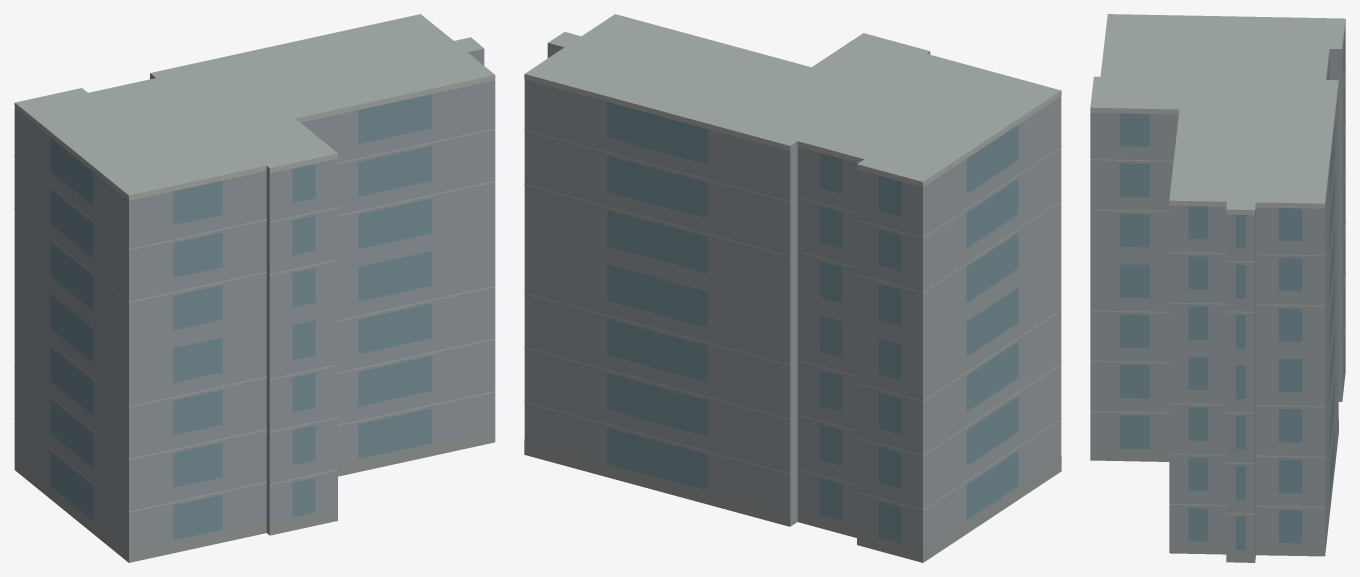
File: survey-upis-32760571.glb
The picture shows the model from 3 angles, left to right: view 1: azimuth 30°, elevation 25°; view 2: azimuth 150°, elevation 25°; view 3: azimuth 270°, elevation 25°; orthographic projection. The views are drawn at different scales.
Visible parts, largest first — view 1: survey-upis-32760571.tmp; view 2: survey-upis-32760571.tmp; view 3: survey-upis-32760571.tmp.
Boxes of the visible parts, x1,y1,x2,y2 form: survey-upis-32760571.tmp: [14, 14, 495, 562]; survey-upis-32760571.tmp: [524, 14, 1061, 562]; survey-upis-32760571.tmp: [1090, 14, 1345, 562].
Size of the model in its own units: 20.19 by 16.9 by 11.11.
